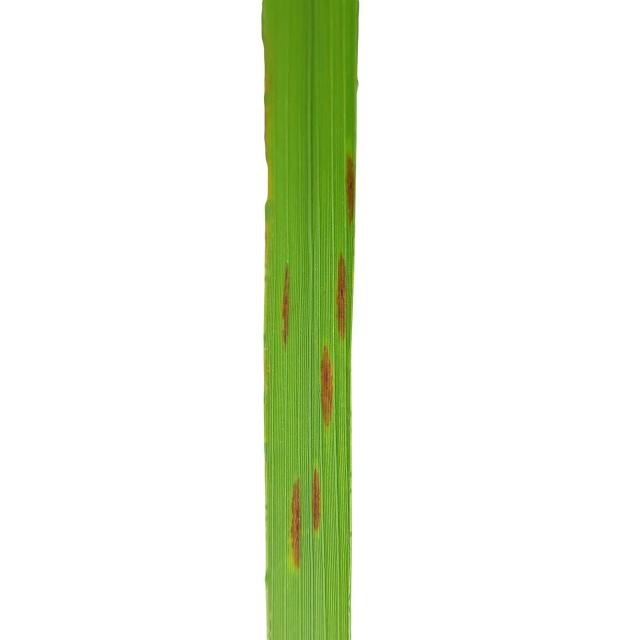Narrow brown: (234, 0, 418, 640)
